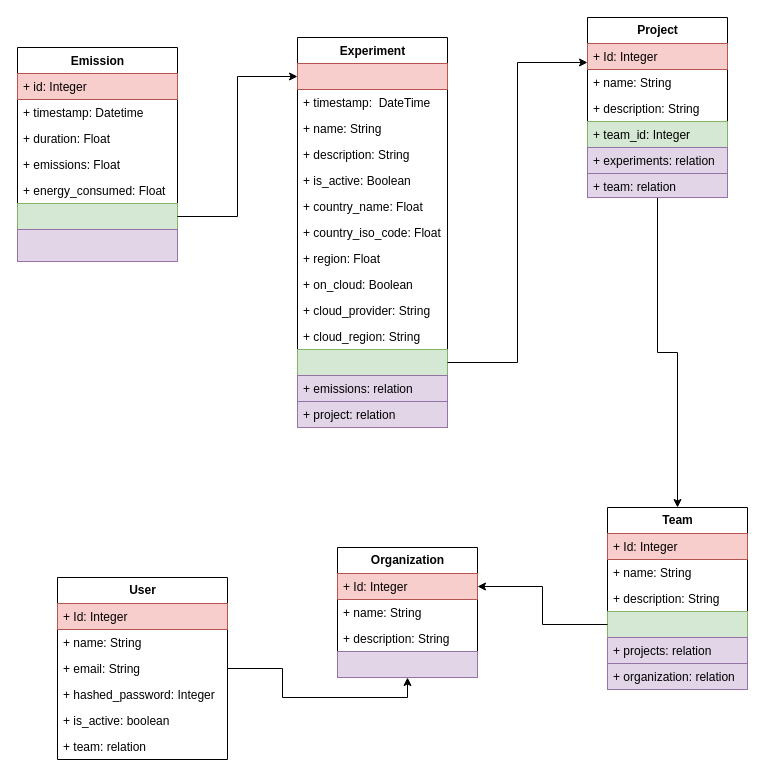
Some shapes in this 765 by 780 pixel diagram are drawn without their labels. The centre of each missing label's shape, as x and y in pixels:
+ experiment: relation: the point at 97,245
+ experiment_id: Integer: the point at 97,216
+ ld: Integer: the point at 372,76
+ organization_id: Integer: the point at 677,624
+ project_id: Integer: the point at 372,362
+ teams: relation: the point at 407,664
